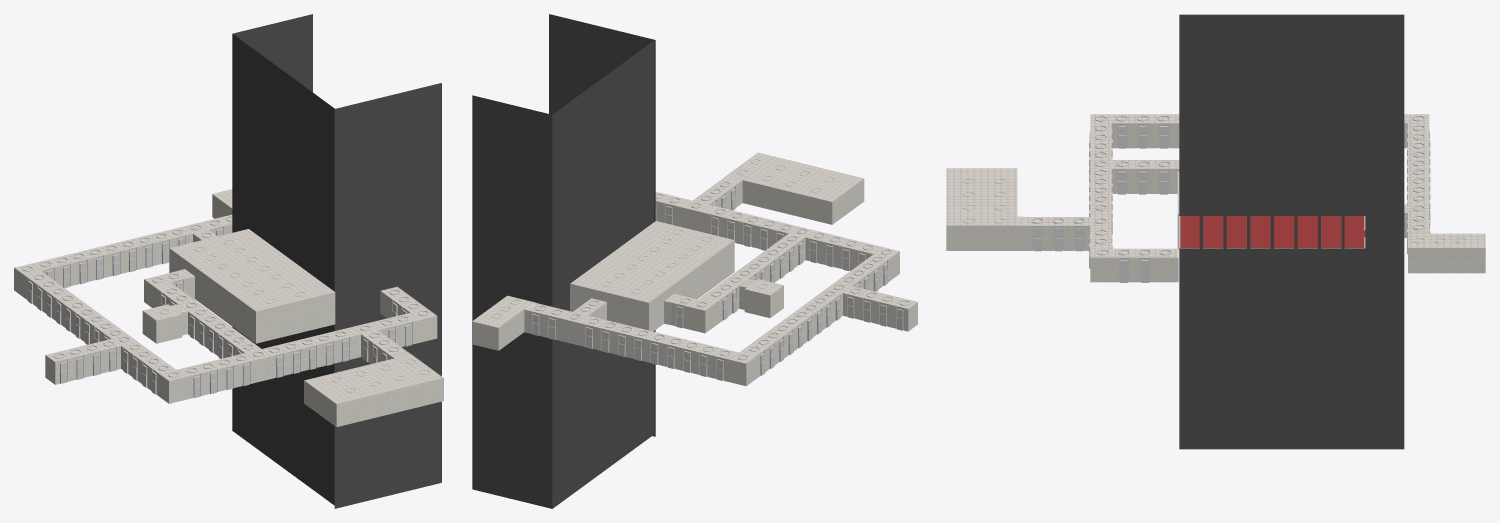
The model's file is TestLevel_V2.fbx.
3 renders of one model, left to right at view 1: azimuth 30°, elevation 25°; view 2: azimuth 150°, elevation 25°; view 3: azimuth 270°, elevation 25°, orthographic. The views are drawn at different scales.
Visible parts, largest first — view 1: halklchunk.002, halklchunk, lamp; view 2: halklchunk.002, halklchunk, lamp; view 3: halklchunk.002, halklchunk, lamp.
Boxes of the visible parts, x1,y1,x2,y2 form: halklchunk.002: (232,14,441,508); halklchunk: (14,189,443,427); lamp: (22,216,429,392); halklchunk.002: (472,14,655,508); halklchunk: (472,152,917,386); lamp: (491,159,909,359); halklchunk.002: (1177,14,1404,449); halklchunk: (946,114,1485,282); lamp: (963,116,1465,255).
Size of the model in its own units: 9211 by 9283 by 10369.
